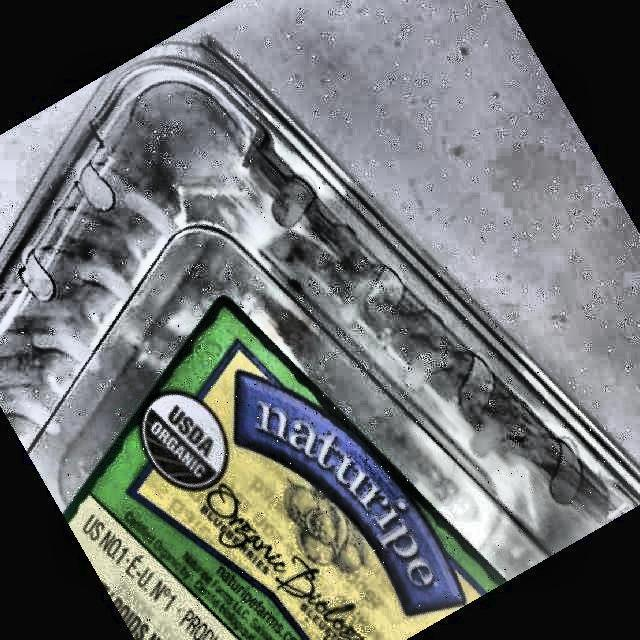plastic: (0, 45, 640, 640)
